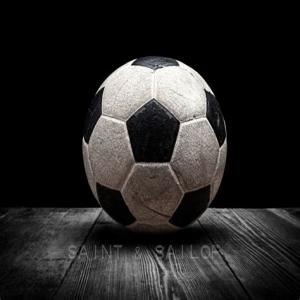Football: (79, 52, 227, 235)
